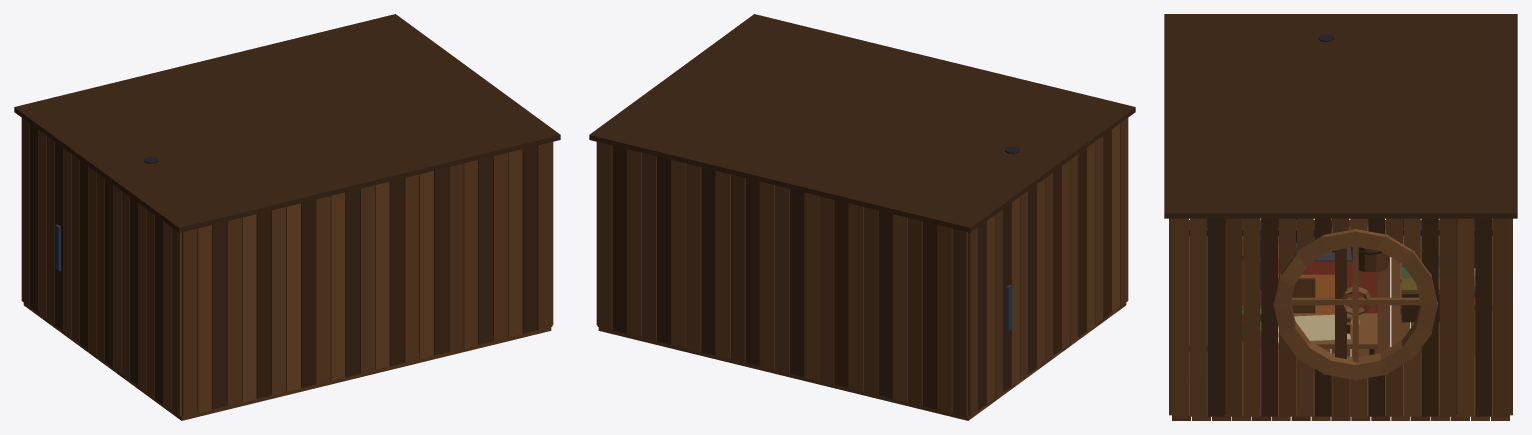
Rendered from cabin_b.glb.
3 views of the same model, side by side, from view 1: azimuth 30°, elevation 25°; view 2: azimuth 150°, elevation 25°; view 3: azimuth 270°, elevation 25° (orthographic). The views are drawn at different scales.
Visible parts, largest first — view 1: cabin_b_ceiling, cabin_b_wallB_00_0.001, cabin_b_wallB_06_0.001, cabin_b_wallB_14_0.001, cabin_b_wallB_09_0.001, cabin_b_wallB_15_0.001, cabin_b_wallB_23_0.001, cabin_b_wallB_01_0.001, cabin_b_wallB_05_0.001, cabin_b_wallB_18_0.001, cabin_b_wallB_19_0.001, cabin_b_wallB_24_0.001 (+34 smaller); view 2: cabin_b_ceiling, cabin_b_wallB_00_0, cabin_b_wallB_06_0, cabin_b_wallB_14_0, cabin_b_wallB_09_0, cabin_b_wallB_15_0, cabin_b_wallB_23_0, cabin_b_wallB_01_0, cabin_b_wallB_05_0, cabin_b_wallB_18_0, cabin_b_wallB_19_0, cabin_b_wallB_24_0 (+34 smaller); view 3: cabin_b_ceiling, cabin_b_wallR_02_0, cabin_b_wallR_04_0, cabin_b_wallR_16_0, cabin_b_wallR_03_0, cabin_b_wallR_15_0, cabin_b_wallR_00_0, cabin_b_wallR_01_0, cabin_b_wallR_17_0, cabin_b_wallR_18_0, cabin_b_wallR_05_0, cabin_b_wallR_14_0 (+46 smaller).
Part boxes in pixels (x1,y1,x2,y2): cabin_b_ceiling: (14,14,560,232); cabin_b_wallB_00_0.001: (182,228,197,416); cabin_b_wallB_06_0.001: (271,207,286,395); cabin_b_wallB_14_0.001: (389,178,404,366); cabin_b_wallB_09_0.001: (315,196,330,384); cabin_b_wallB_15_0.001: (404,174,419,362); cabin_b_wallB_23_0.001: (522,146,537,333); cabin_b_wallB_01_0.001: (197,225,212,413); cabin_b_wallB_05_0.001: (256,210,271,398); cabin_b_wallB_18_0.001: (448,163,463,351); cabin_b_wallB_19_0.001: (463,160,478,348); cabin_b_wallB_24_0.001: (537,142,552,330); cabin_b_ceiling: (589,14,1135,232); cabin_b_wallB_00_0: (952,228,967,416); cabin_b_wallB_06_0: (863,207,878,395); cabin_b_wallB_14_0: (745,178,760,366); cabin_b_wallB_09_0: (819,196,834,384); cabin_b_wallB_15_0: (730,174,745,362); cabin_b_wallB_23_0: (612,146,627,333); cabin_b_wallB_01_0: (937,225,952,413); cabin_b_wallB_05_0: (878,210,893,398); cabin_b_wallB_18_0: (686,163,701,351); cabin_b_wallB_19_0: (671,160,686,348); cabin_b_wallB_24_0: (597,142,612,330); cabin_b_ceiling: (1164,14,1517,218); cabin_b_wallR_02_0: (1207,218,1224,416); cabin_b_wallR_04_0: (1243,218,1260,416); cabin_b_wallR_16_0: (1457,218,1474,416); cabin_b_wallR_03_0: (1225,218,1242,416); cabin_b_wallR_15_0: (1439,218,1456,416); cabin_b_wallR_00_0: (1172,218,1188,416); cabin_b_wallR_01_0: (1190,218,1206,416); cabin_b_wallR_17_0: (1475,218,1491,416); cabin_b_wallR_18_0: (1493,218,1509,416); cabin_b_wallR_05_0: (1261,218,1277,416); cabin_b_wallR_14_0: (1421,218,1438,416).
Size of the model in its own units: 6.42 by 3.18 by 4.8.
